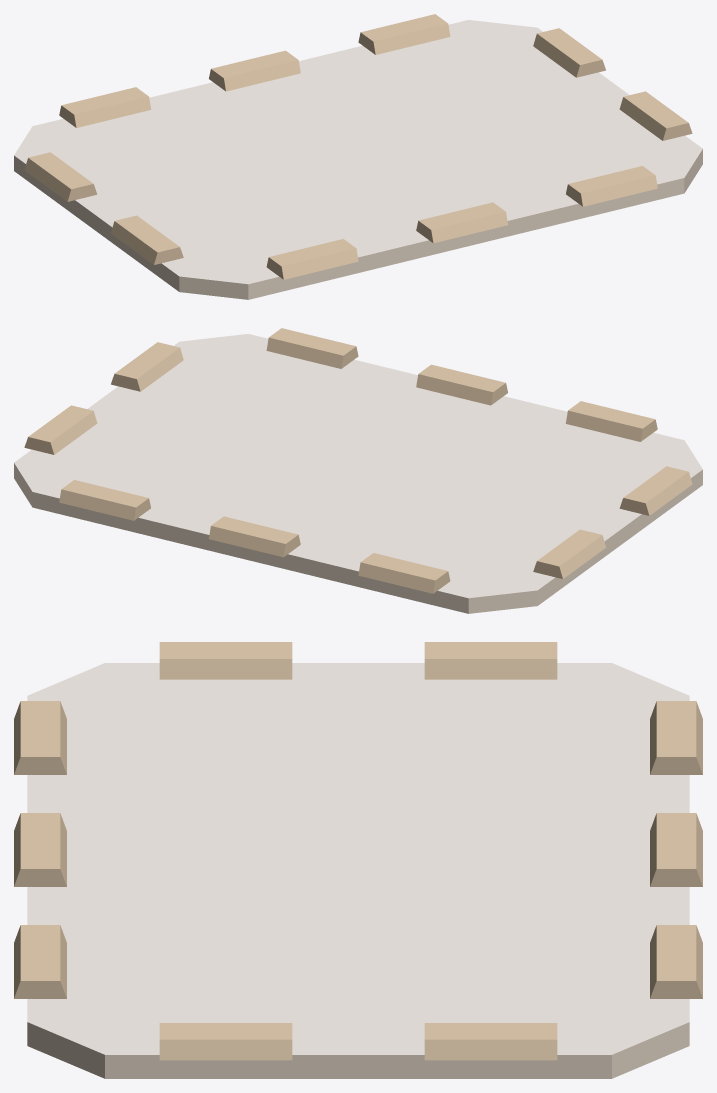
File: LonghouseRoof.glb
3 renders of one model, top to bottom at view 1: azimuth 30°, elevation 25°; view 2: azimuth 150°, elevation 25°; view 3: azimuth 270°, elevation 25°, orthographic. The views are drawn at different scales.
Visible parts, largest first — view 1: object1.316, object1.334, object1.344, object1.351, object1.326, object1.327, object1.325, object1.330, object1.332, object1.335, object1.341, object1.346 (+33 smaller); view 2: object1.318, object1.333, object1.343, object1.351, object1.325, object1.326, object1.327, object1.330, object1.332, object1.337, object1.341, object1.345 (+33 smaller); view 3: object1.323, object1.317, object1.319, object1.325, object1.327, object1.330, object1.332, object1.335, object1.337, object1.340, object1.342, object1.345 (+33 smaller).
Part boxes in pixels (x1,y1,x2,y2): object1.316: [161, 245, 279, 299]; object1.334: [461, 172, 578, 237]; object1.344: [311, 208, 428, 273]; object1.351: [75, 182, 192, 246]; object1.326: [449, 90, 566, 140]; object1.327: [492, 122, 609, 171]; object1.325: [406, 59, 523, 108]; object1.330: [331, 77, 448, 126]; object1.332: [418, 140, 534, 190]; object1.335: [256, 95, 373, 145]; object1.341: [225, 145, 341, 194]; object1.346: [150, 163, 267, 213]; object1.318: [437, 559, 555, 613]; object1.333: [138, 486, 255, 551]; object1.343: [288, 522, 405, 587]; object1.351: [524, 496, 641, 560]; object1.325: [107, 436, 224, 485]; object1.326: [150, 404, 267, 454]; object1.327: [193, 373, 310, 422]; object1.330: [182, 454, 298, 504]; object1.332: [268, 391, 385, 440]; object1.337: [343, 409, 460, 459]; object1.341: [375, 459, 491, 508]; object1.345: [406, 509, 523, 558]; object1.323: [292, 999, 424, 1078]; object1.317: [557, 999, 689, 1078]; object1.319: [27, 999, 159, 1078]; object1.325: [424, 943, 557, 998]; object1.327: [159, 943, 292, 998]; object1.330: [424, 887, 557, 942]; object1.332: [159, 887, 292, 942]; object1.335: [424, 831, 557, 886]; object1.337: [159, 831, 292, 886]; object1.340: [424, 775, 557, 830]; object1.342: [159, 775, 292, 830]; object1.345: [424, 719, 557, 774].
Size of the model in its own units: 7.2 by 0.35 by 5.2.
